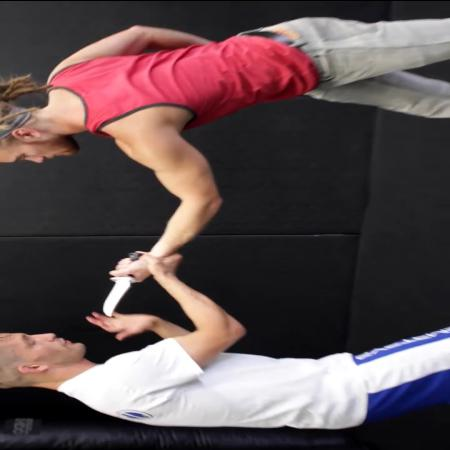long weapon: (89, 248, 143, 320)
